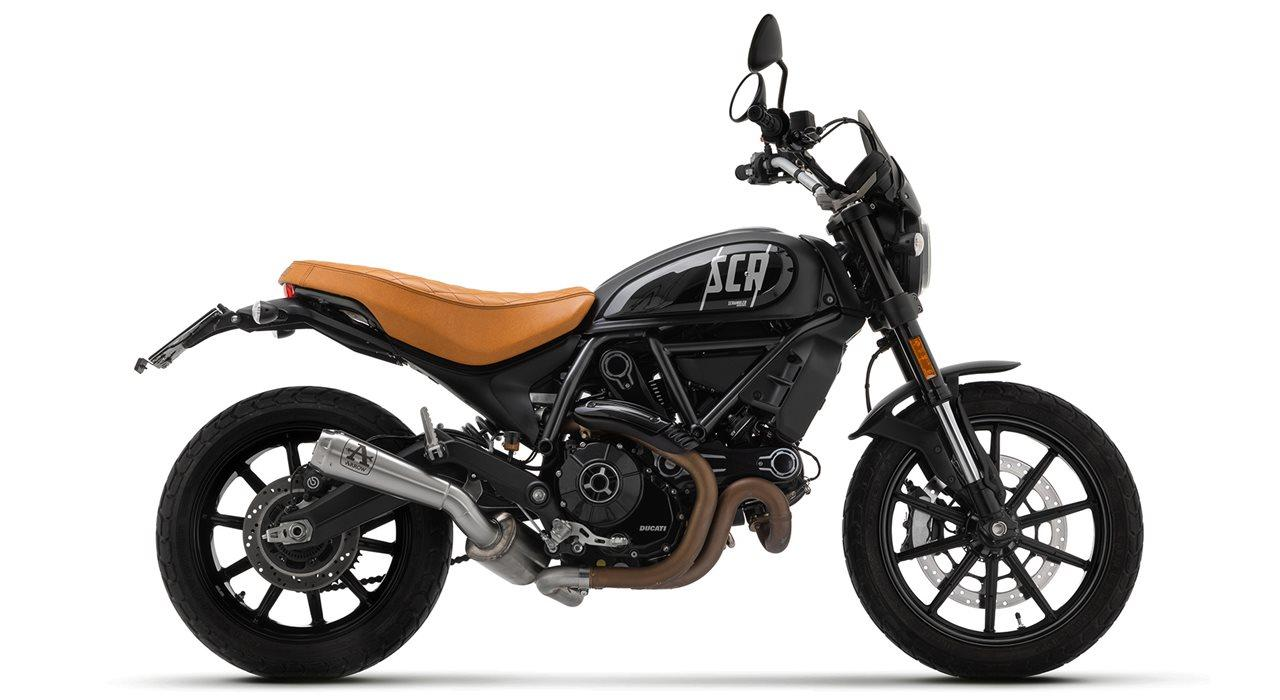engine-chasis: (567, 307, 841, 507), (538, 432, 696, 567), (460, 415, 502, 444), (732, 499, 766, 527)
exhaust: (308, 398, 797, 607)
frontside: (738, 108, 1022, 549)
handlebar: (728, 13, 893, 215)
motorbike: (135, 13, 1145, 680)
rearside: (133, 283, 648, 534), (260, 482, 410, 552)
seat: (278, 259, 597, 366)
tank: (573, 225, 839, 337)
wheel: (841, 380, 1145, 682), (155, 385, 454, 683), (863, 337, 891, 413), (359, 573, 386, 587), (320, 582, 347, 594), (450, 553, 471, 566)
